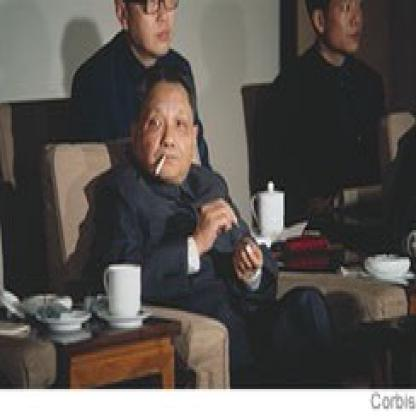cigarette: (151, 152, 169, 178)
person: (66, 67, 281, 304), (262, 2, 389, 196)
